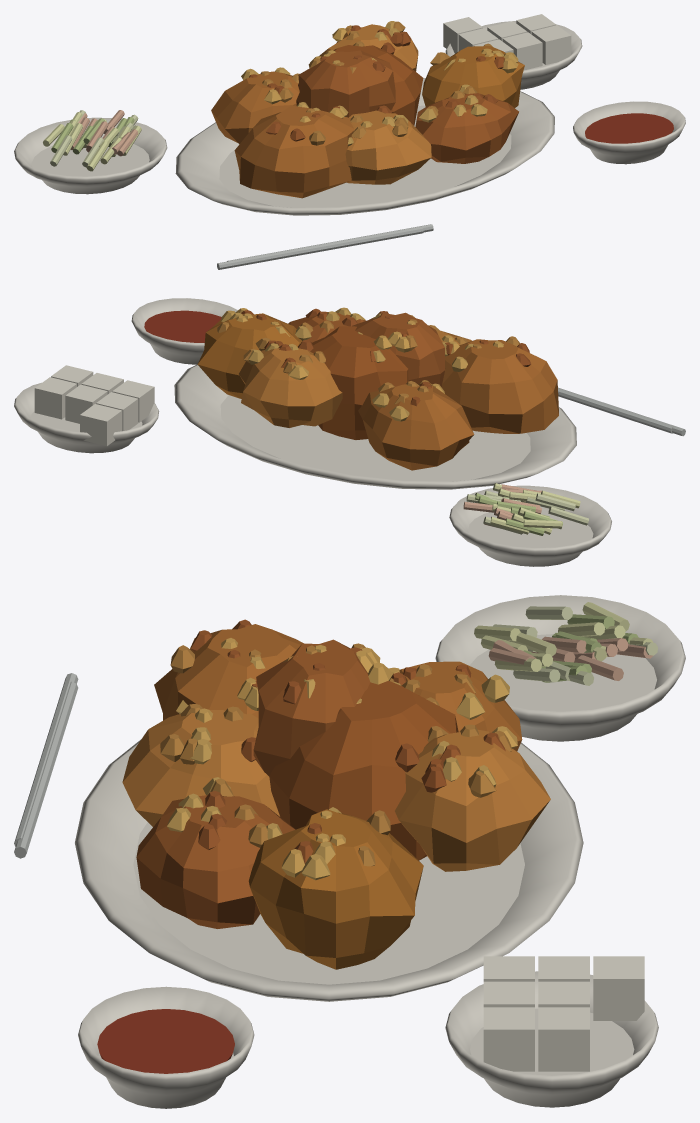
The model's file is hanshin-table.glb.
3 renders of one model, top to bottom at view 1: azimuth 30°, elevation 25°; view 2: azimuth 150°, elevation 25°; view 3: azimuth 270°, elevation 25°, orthographic. The views are drawn at different scales.
Visible parts, largest first — view 1: Surface; view 2: Surface; view 3: Surface.
Part boxes in pixels (left/top/right/bottom): Surface: left=14, top=14, right=685, bottom=269; Surface: left=14, top=298, right=685, bottom=566; Surface: left=14, top=595, right=685, bottom=1108.
Size of the model in its own units: 0.668 by 0.1373 by 0.3918.
